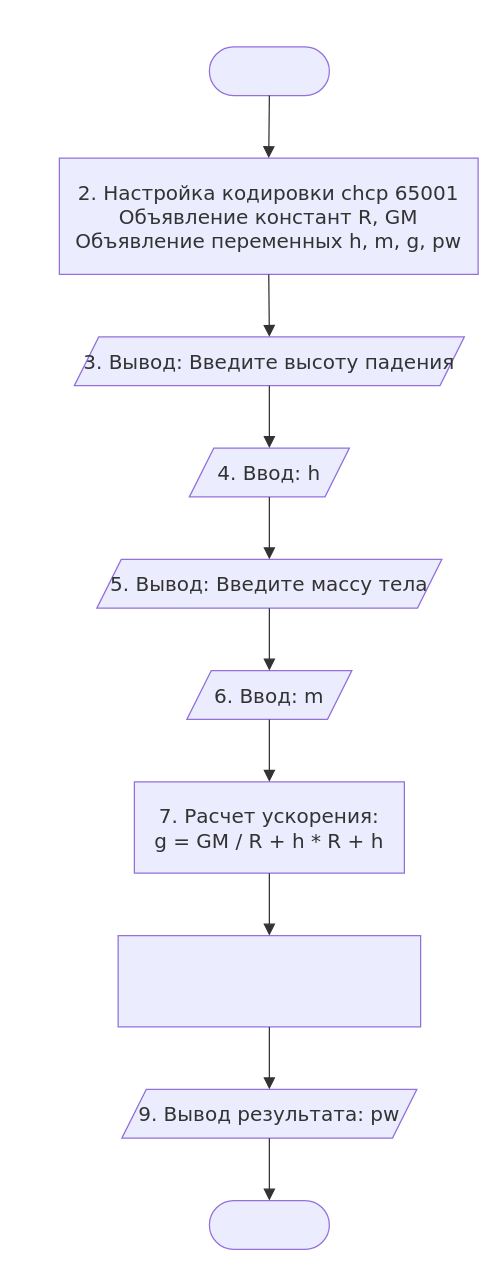
This 500x1271 diagram has some shape labels left out. Each missing label, with the centre of its shape:
1. Начало: the point at 268,71
10. Конец: the point at 268,1224
8. Расчет силы тяжести: pw = m * g: the point at 269,980
